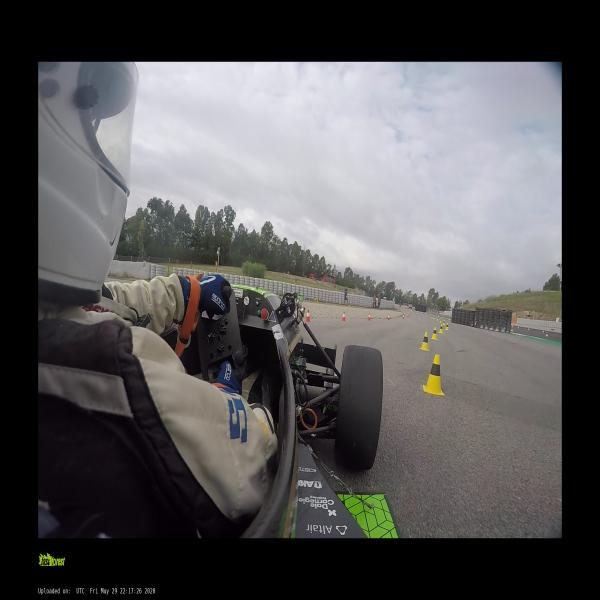orange_cone: (305, 310, 311, 322), (340, 312, 346, 321), (367, 313, 371, 321), (387, 314, 390, 321), (402, 314, 404, 319), (407, 314, 409, 318)
yellow_cone: (423, 354, 444, 396), (419, 332, 430, 351), (431, 327, 437, 341), (438, 324, 443, 332), (445, 323, 449, 330), (442, 320, 445, 325), (545, 332, 548, 336), (439, 318, 442, 322), (511, 327, 513, 331), (436, 318, 438, 321), (433, 317, 435, 320), (431, 316, 433, 318)
